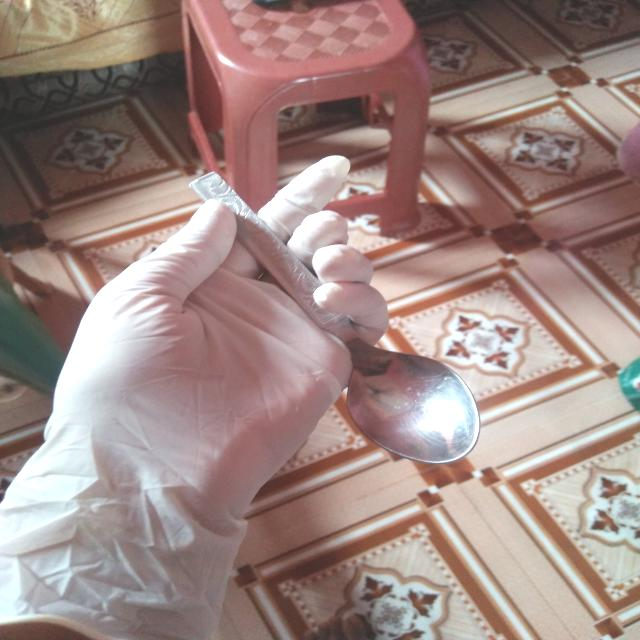glove: (0, 144, 402, 636)
